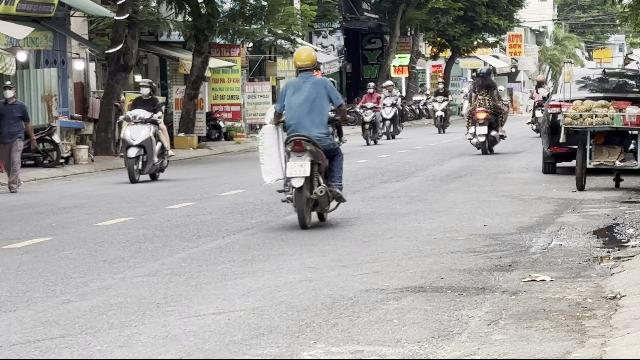helmet: (292, 46, 318, 74), (138, 78, 154, 98)
licenseplate: (286, 161, 310, 177)
motorcyclist: (259, 44, 349, 228), (118, 77, 172, 183)
